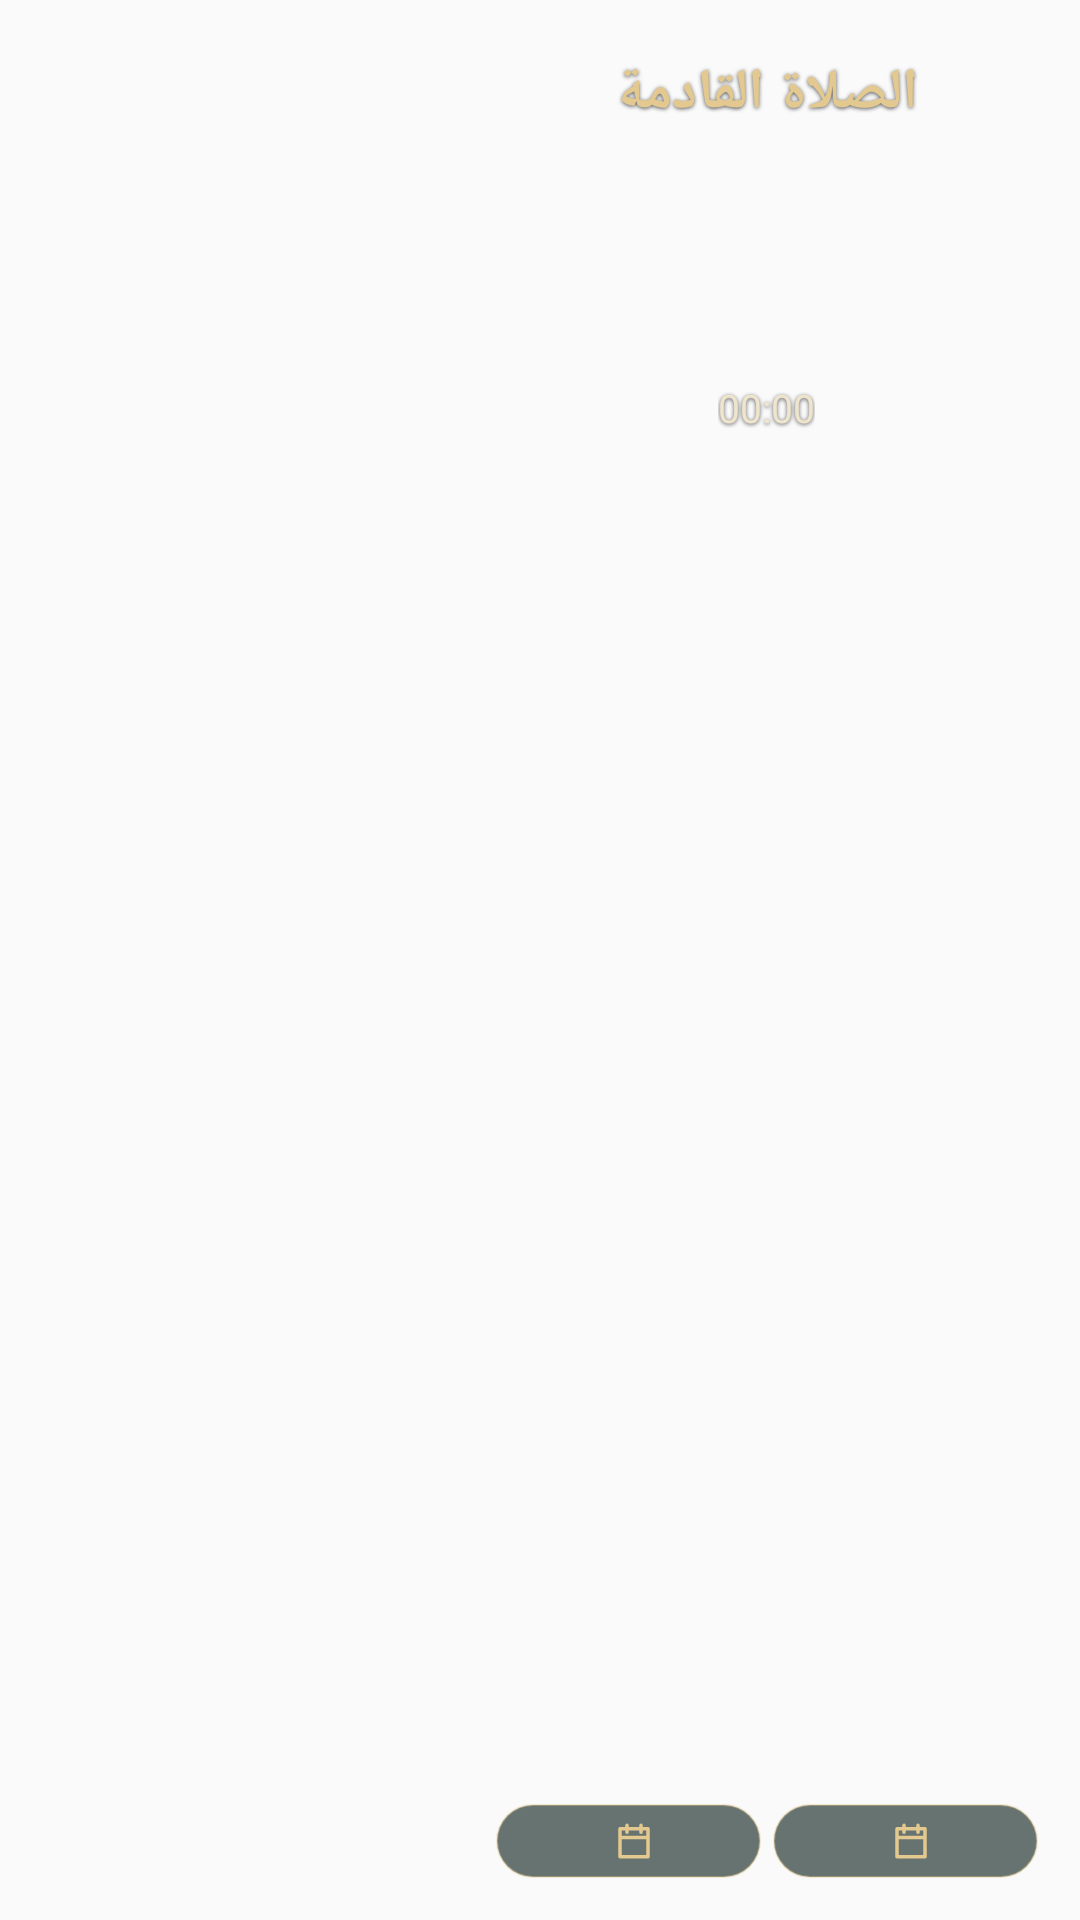

Icons on this 1080w x 1920h Android screen, each with its box as (x1, y1, x2, y2):
cal: (618, 1823, 650, 1859), (895, 1823, 927, 1859)
